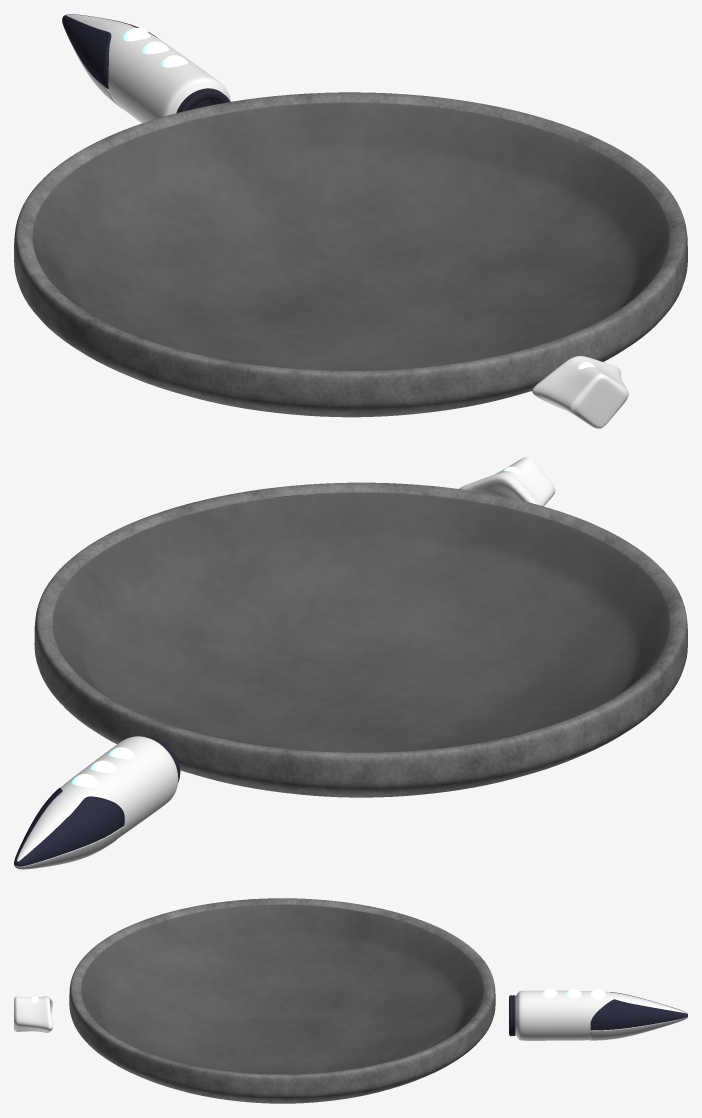
The model's file is pan.fbx.
3 views of the same model, one above another, from view 1: azimuth 30°, elevation 25°; view 2: azimuth 150°, elevation 25°; view 3: azimuth 270°, elevation 25° (orthographic). The views are drawn at different scales.
Visible parts, largest first — view 1: pan, metal handle, outter, rubber handle, lights inner, rubber end; view 2: pan, metal handle, rubber handle, outter, led handle, lights inner; view 3: pan, metal handle, rubber handle, outter, led handle, lights inner.
Part boxes in pixels (<box>): pan: <box>14,92,687,417</box>; metal handle: <box>66,14,230,123</box>; outter: <box>532,356,628,428</box>; rubber handle: <box>62,14,158,88</box>; lights inner: <box>123,28,187,67</box>; rubber end: <box>176,88,230,112</box>; pan: <box>34,482,687,797</box>; metal handle: <box>17,736,178,861</box>; rubber handle: <box>14,787,124,866</box>; outter: <box>459,457,555,506</box>; led handle: <box>14,827,123,869</box>; lights inner: <box>71,747,134,787</box>; pan: <box>69,898,495,1103</box>; metal handle: <box>515,990,686,1040</box>; rubber handle: <box>590,992,687,1030</box>; outter: <box>14,996,52,1032</box>; led handle: <box>590,1017,687,1040</box>; lights inner: <box>543,989,605,999</box>.
Bounding box in the file's own units: 199 × 39.85 × 314.
